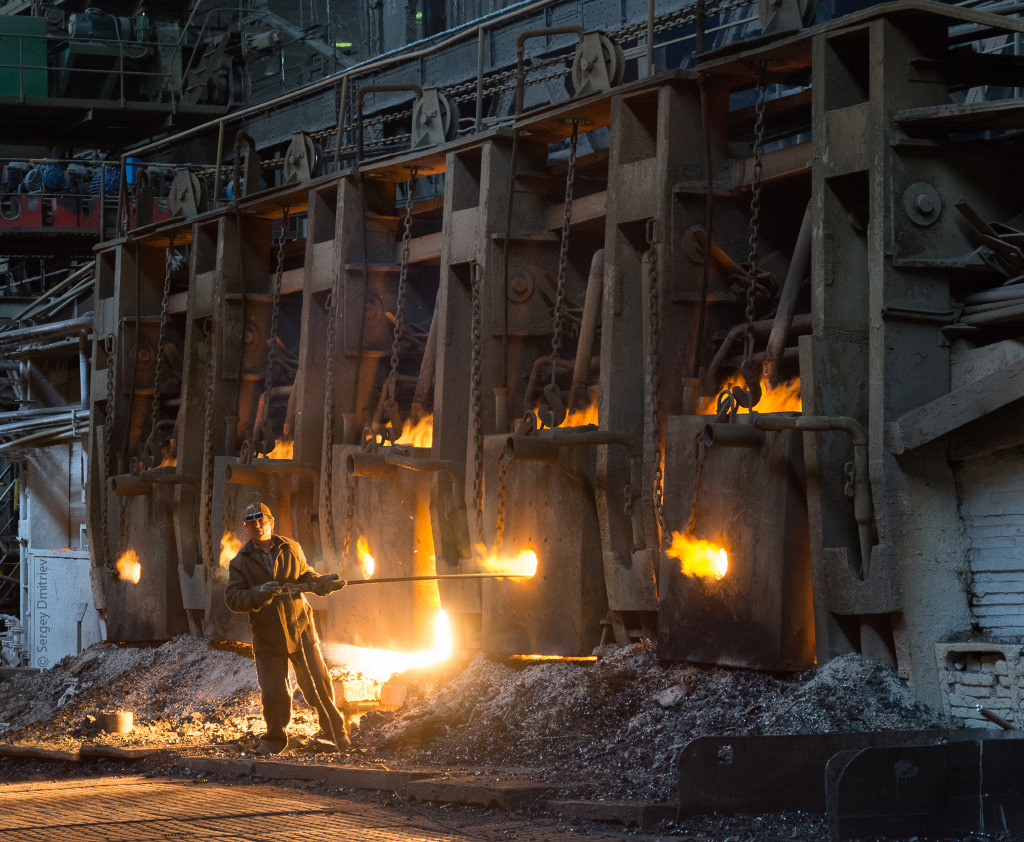person: (225, 501, 356, 755)
